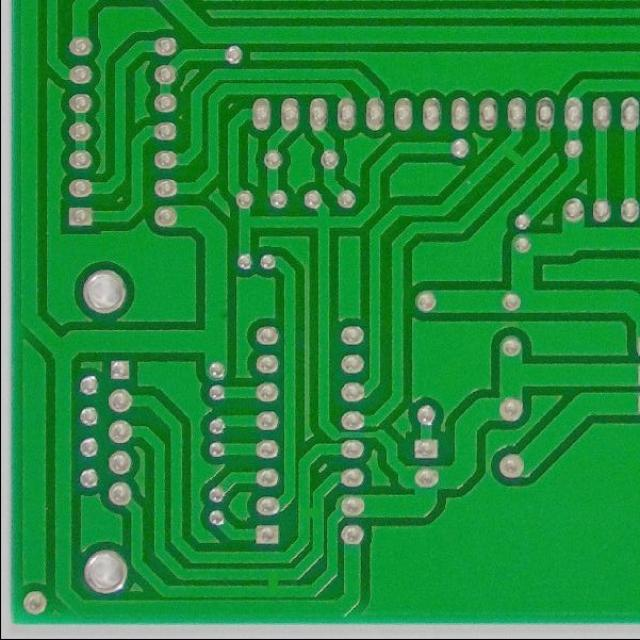short: (492, 140, 531, 176), (294, 498, 326, 532), (256, 570, 288, 602)
